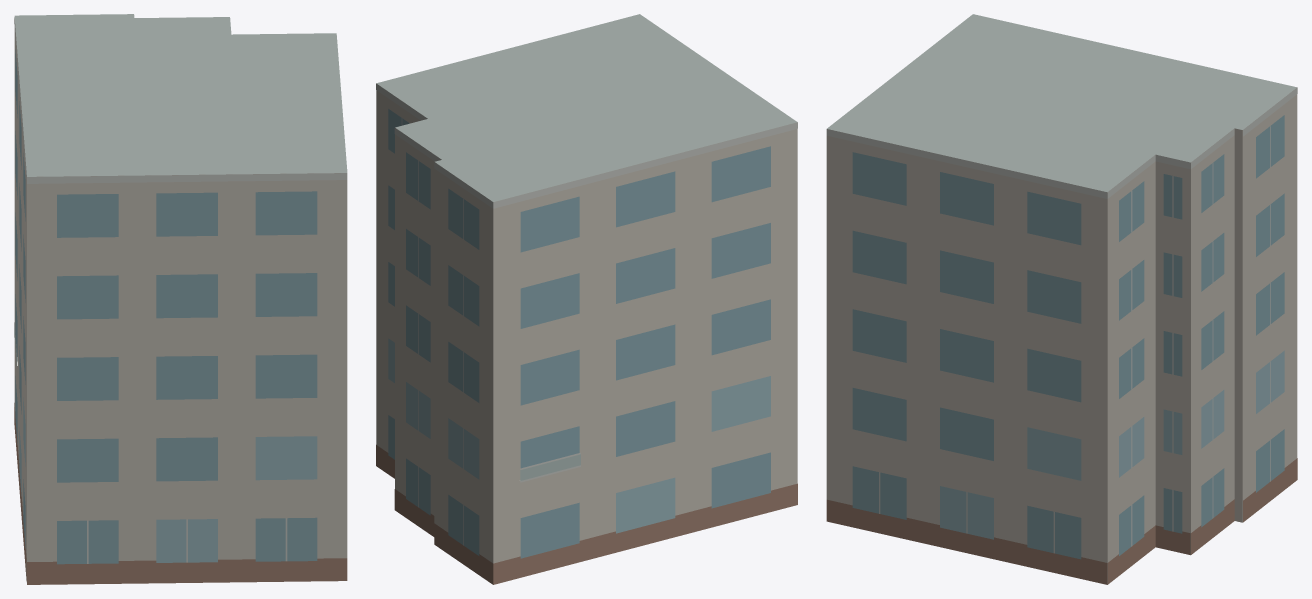
The model's file is survey-upis-32920494.glb.
The picture shows the model from 3 angles, left to right: view 1: azimuth 30°, elevation 25°; view 2: azimuth 150°, elevation 25°; view 3: azimuth 270°, elevation 25°; orthographic projection. The views are drawn at different scales.
Parts seen in each view (by area): view 1: survey-upis-32920494.tmp; view 2: survey-upis-32920494.tmp; view 3: survey-upis-32920494.tmp.
Part boxes in pixels (x1=…): survey-upis-32920494.tmp: x1=14, y1=14, x2=347, y2=584; survey-upis-32920494.tmp: x1=376, y1=14, x2=797, y2=584; survey-upis-32920494.tmp: x1=826, y1=14, x2=1297, y2=584.
Size of the model in its own units: 13.74 by 14.1 by 15.33.
